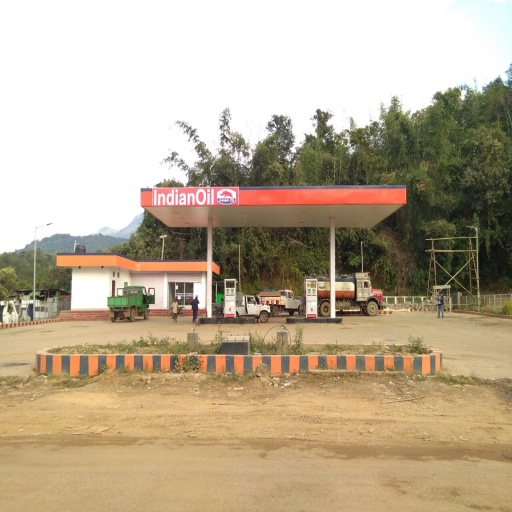roof: (140, 184, 414, 231)
